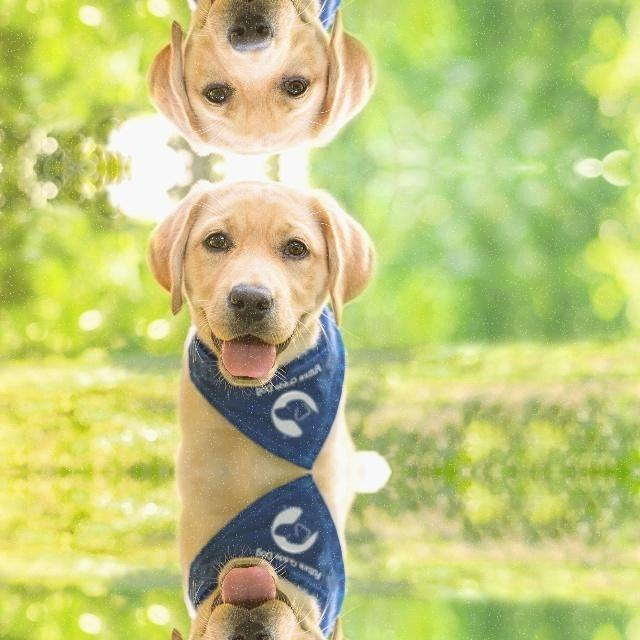dog: (143, 170, 374, 394), (144, 0, 375, 164), (144, 549, 375, 640)
